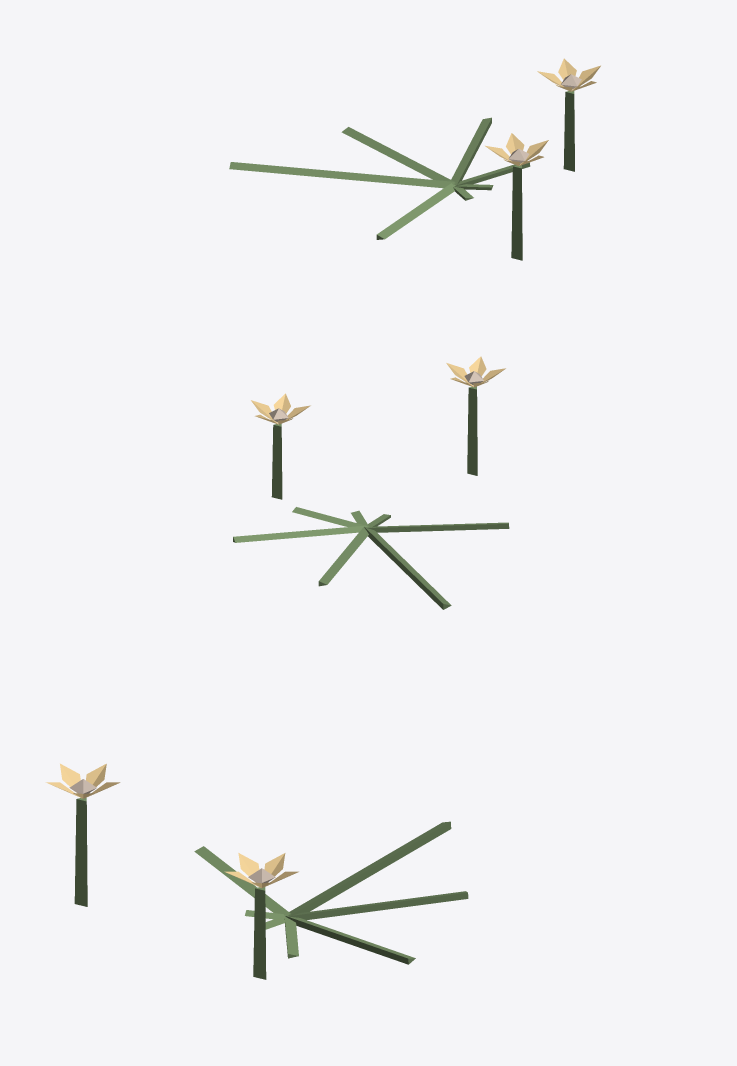
The model's file is shui.pingpeng__bloom.glb.
The picture shows the model from 3 angles, top to bottom: view 1: azimuth 30°, elevation 25°; view 2: azimuth 150°, elevation 25°; view 3: azimuth 270°, elevation 25°; orthographic projection. The views are drawn at different scales.
Parts seen in each view (by area): view 1: shui.pingpeng__bloom; view 2: shui.pingpeng__bloom; view 3: shui.pingpeng__bloom.
Boxes of the visible parts, x1,y1,x2,y2 form: shui.pingpeng__bloom: (229,58,600,260); shui.pingpeng__bloom: (233,356,509,609); shui.pingpeng__bloom: (46,763,468,979).
Bounding box in the file's own units: 1.28 × 0.2344 × 1.15.
